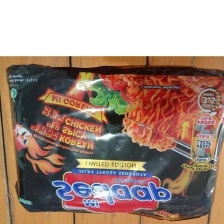snack: (0, 59, 224, 224)
